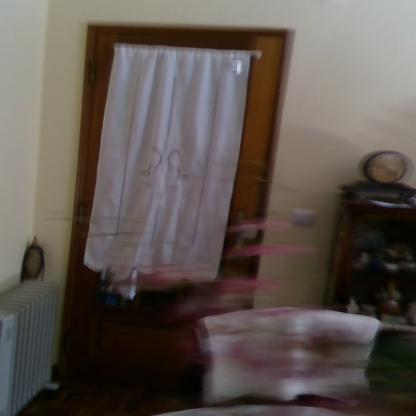door: (80, 30, 260, 362)
hinged: (89, 60, 97, 86), (77, 204, 85, 228)
knob: (242, 222, 260, 240)
